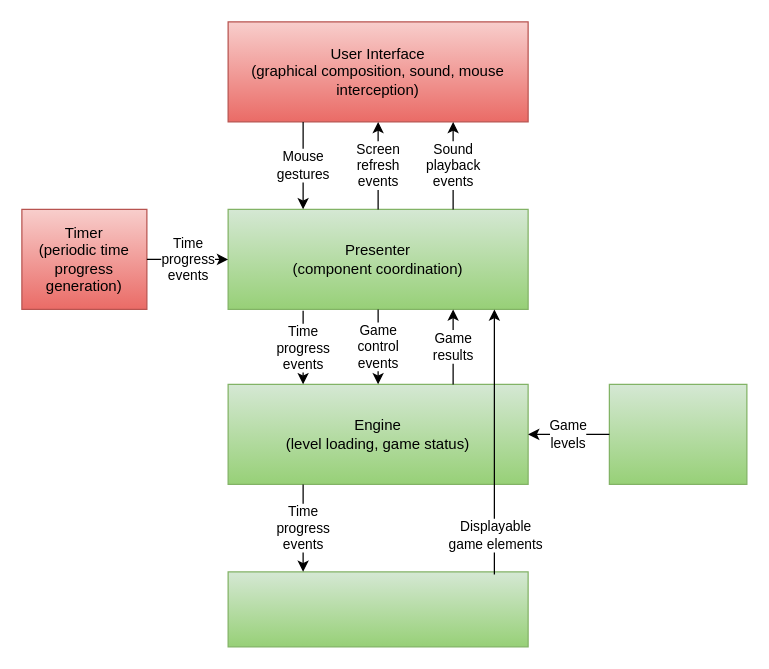
Some shapes in this 769 by 669 pixel diagram are drawn without their labels. The box of each missing label's shape, as (x1, y1, x2, y2) in pixels:
Core (game model + physics engine): (227, 571, 528, 647)
Space factory (level generator): (608, 383, 747, 484)
